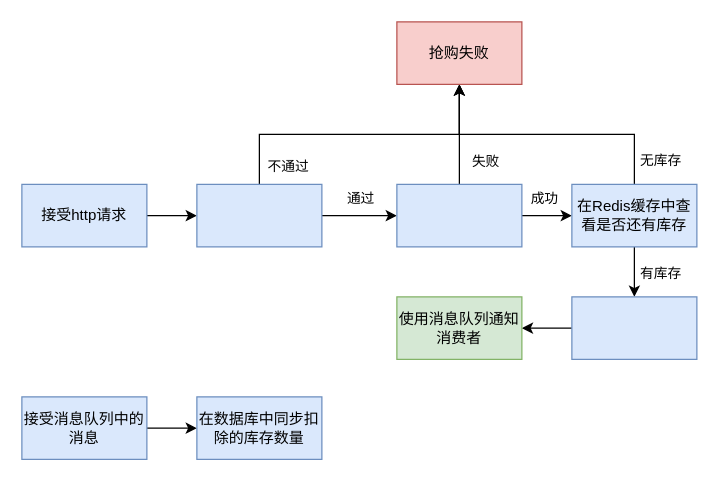
This 719x481 diagram has some shape labels left out. The shapes that lost their labels are listed below. From the top down, each one's box as (x1, y1, x2, y2) in pixels, then its label:
(196, 183, 322, 247): 限流器
(396, 183, 522, 247): 验证用户信息
(571, 296, 697, 359): 扣除Redis中的库存
